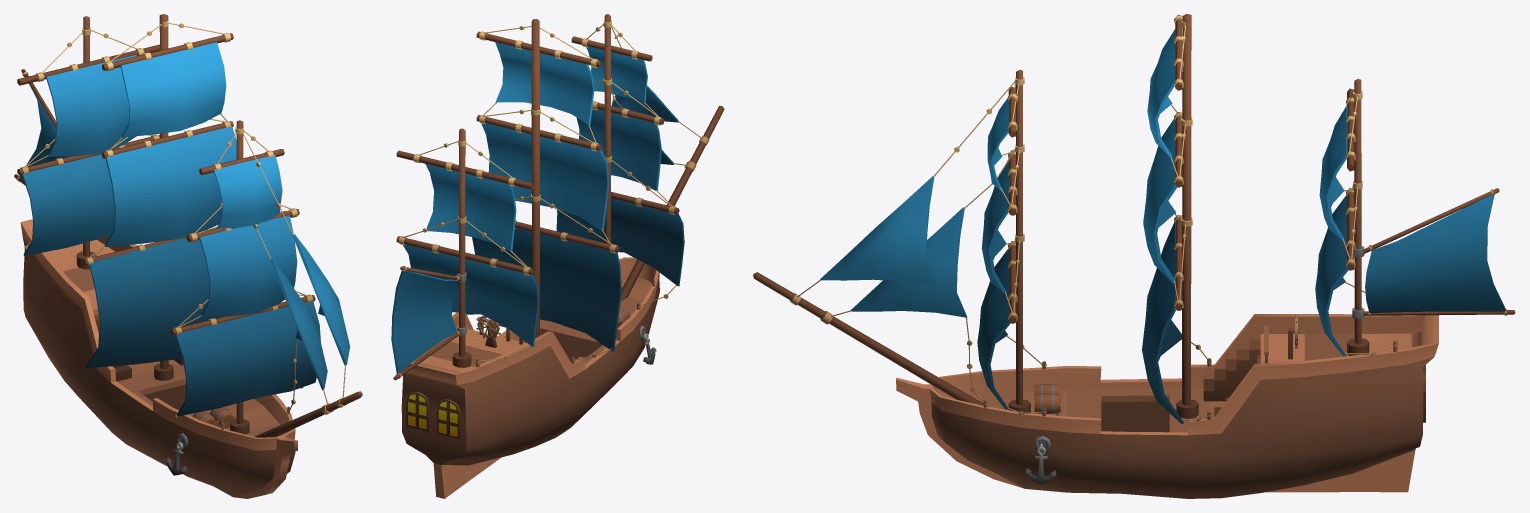
File: sailing ship big.fbx
The picture shows the model from 3 angles, left to right: view 1: azimuth 30°, elevation 25°; view 2: azimuth 150°, elevation 25°; view 3: azimuth 270°, elevation 25°; orthographic projection. The views are drawn at different scales.
Visible parts, largest first — view 1: sailing_ship_big, rack_barrels; view 2: sailing_ship_big; view 3: sailing_ship_big.
Boxes of the visible parts, bbox=[...] form: sailing_ship_big: bbox=[14, 14, 362, 498]; rack_barrels: bbox=[192, 407, 235, 428]; sailing_ship_big: bbox=[391, 14, 724, 498]; sailing_ship_big: bbox=[753, 14, 1515, 498].
Size of the model in its own units: 1021 by 2530 by 3671.
Materials: 1 (1 with a texture image).
